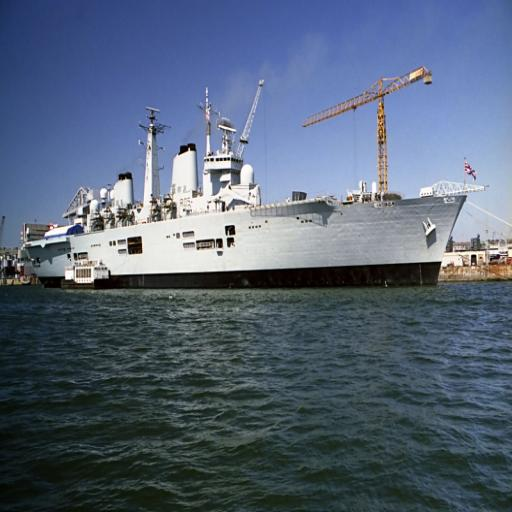Portanaves: (22, 77, 472, 292)
